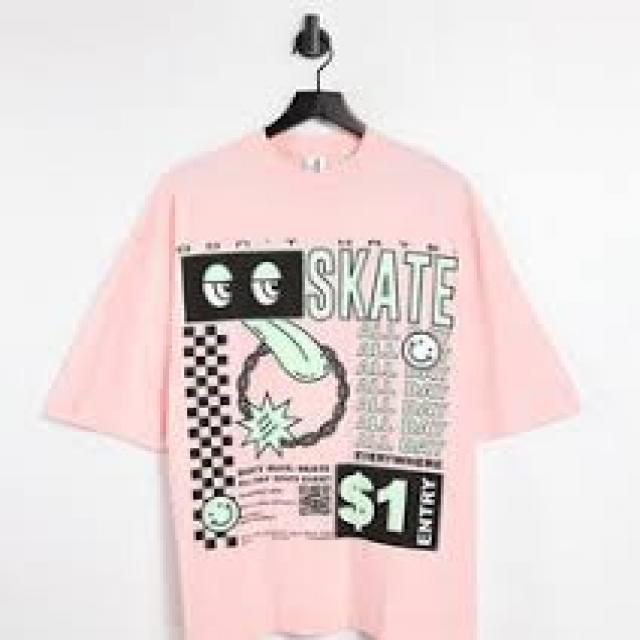Shirt: (53, 125, 571, 640)
